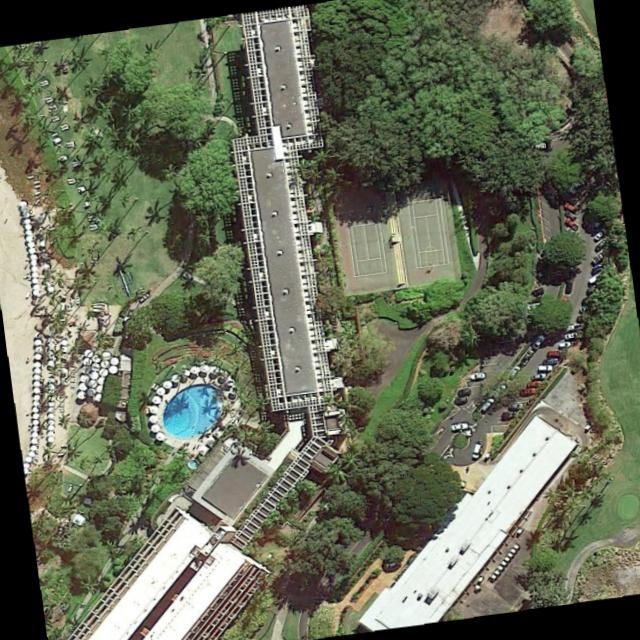small-vehicle: (587, 267, 609, 285), (490, 381, 508, 399), (478, 395, 497, 412), (519, 348, 536, 366), (590, 248, 609, 264), (505, 364, 522, 381), (530, 334, 548, 350), (592, 226, 609, 242), (563, 216, 580, 231), (584, 283, 602, 297), (562, 207, 580, 221), (593, 238, 609, 252), (528, 285, 546, 297), (528, 292, 546, 304), (563, 200, 579, 213), (471, 440, 483, 457), (568, 321, 588, 331), (563, 278, 575, 294), (581, 296, 600, 306), (468, 370, 487, 380), (579, 304, 597, 314), (450, 421, 468, 431), (453, 393, 469, 404), (508, 402, 527, 411), (576, 314, 594, 323), (501, 410, 519, 419), (521, 386, 537, 395), (531, 371, 547, 380), (528, 379, 543, 388), (543, 357, 558, 365), (564, 331, 579, 339), (531, 142, 547, 149), (457, 388, 471, 396), (538, 364, 553, 370), (547, 349, 559, 356), (558, 341, 571, 347)
storage-tank: (149, 422, 161, 433), (171, 372, 182, 383), (189, 364, 200, 375), (148, 413, 160, 423), (83, 347, 95, 357), (155, 430, 165, 441), (149, 403, 159, 414), (152, 394, 162, 405), (155, 386, 166, 396), (179, 367, 190, 377), (77, 389, 87, 400), (100, 350, 111, 360), (81, 356, 93, 365), (95, 392, 105, 402), (98, 367, 109, 376), (79, 373, 90, 382), (99, 359, 110, 368), (33, 365, 43, 374), (96, 383, 106, 392), (162, 379, 172, 388), (200, 363, 210, 372), (33, 336, 43, 345), (45, 411, 55, 420), (78, 381, 88, 390), (81, 364, 91, 373), (89, 370, 99, 379), (91, 362, 101, 371), (31, 379, 42, 387), (35, 344, 44, 353), (47, 350, 56, 359), (92, 353, 101, 362), (87, 387, 97, 395), (87, 379, 97, 387), (31, 405, 40, 413), (29, 258, 38, 266), (25, 234, 34, 242), (97, 375, 106, 383), (34, 352, 43, 360), (47, 399, 56, 407), (24, 228, 34, 235), (22, 466, 30, 474), (28, 246, 36, 254), (22, 210, 30, 218), (47, 423, 55, 431), (30, 437, 39, 444), (33, 360, 42, 367), (31, 277, 40, 284), (46, 429, 55, 436), (31, 399, 41, 405), (25, 454, 33, 461), (32, 412, 40, 419), (31, 265, 39, 272), (30, 253, 38, 260), (27, 240, 35, 247), (24, 217, 32, 224), (47, 435, 55, 442), (47, 419, 55, 426), (48, 382, 55, 390), (48, 359, 55, 367), (19, 200, 28, 206), (31, 418, 40, 424), (31, 271, 40, 277), (47, 406, 56, 412), (30, 443, 37, 450), (31, 430, 38, 437), (33, 289, 40, 296), (23, 461, 31, 467), (32, 424, 40, 430), (33, 386, 41, 392), (33, 373, 41, 379), (28, 449, 35, 455), (33, 393, 40, 399), (33, 283, 41, 288), (21, 206, 28, 211), (25, 223, 32, 228)
